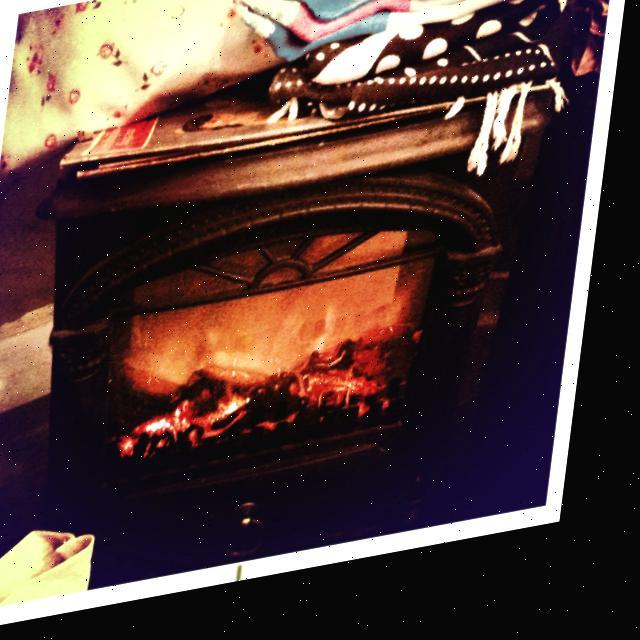Fire: (124, 282, 436, 476)
